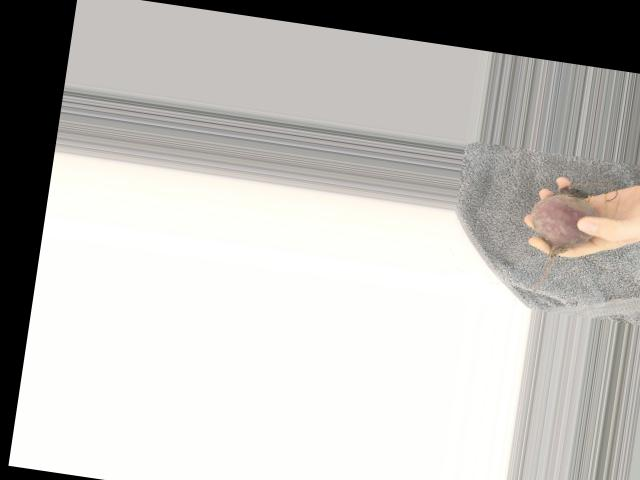beet: (518, 182, 603, 302)
